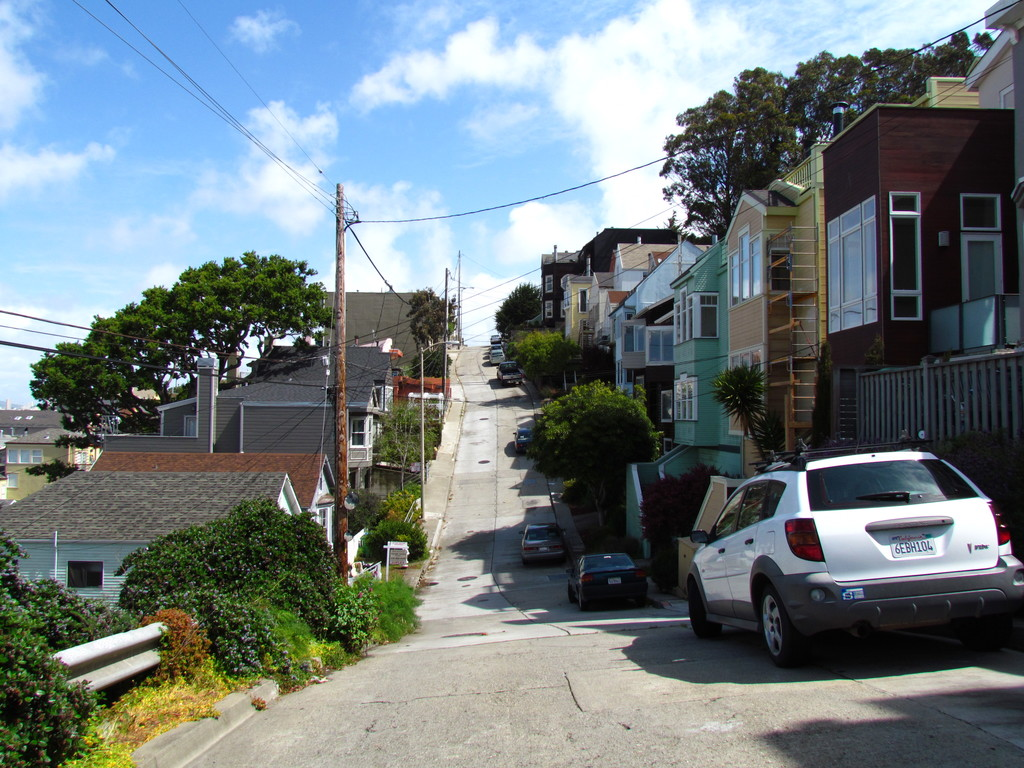Car: (680, 442, 1021, 665), (560, 541, 648, 613), (512, 520, 565, 562), (510, 424, 540, 455), (494, 361, 522, 382)
